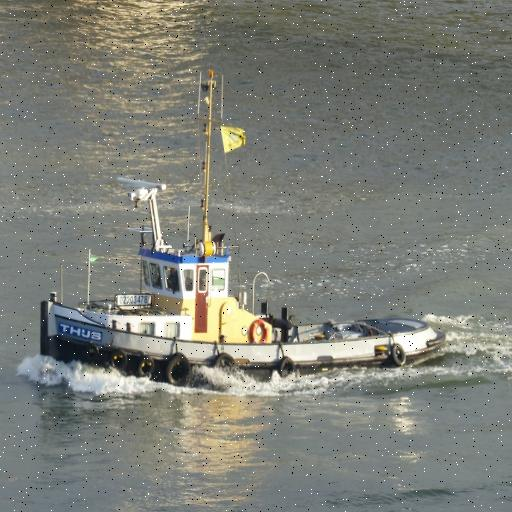tugboat: (37, 65, 451, 403)
